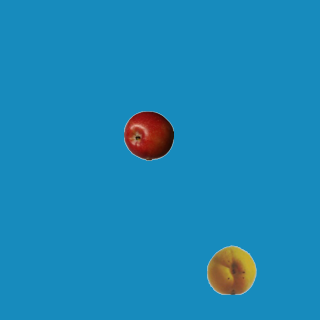Apple Braeburn: (123, 110, 173, 160)
Peach 2: (206, 244, 256, 294)
